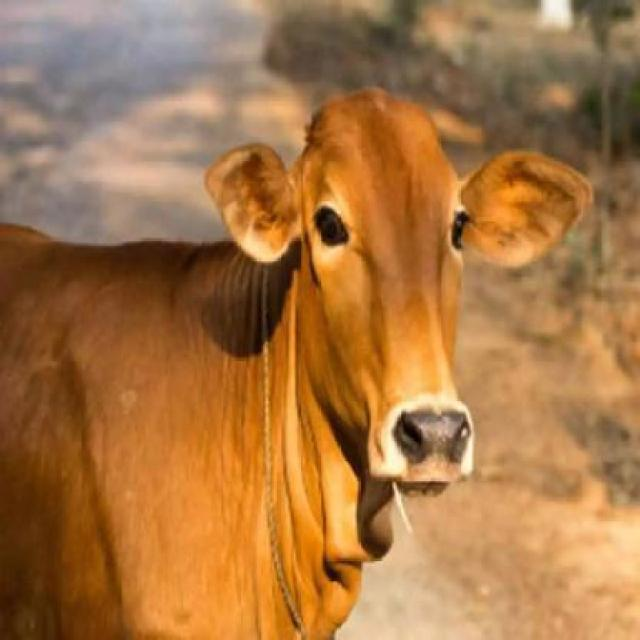cow: (0, 97, 583, 640)
